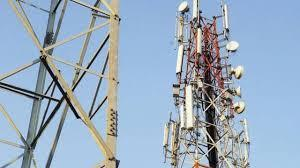Microwave Antenna: (234, 99, 247, 116), (225, 41, 243, 53), (233, 63, 244, 79), (175, 2, 188, 15), (235, 85, 246, 100)
antenna: (184, 85, 195, 130), (173, 45, 185, 73), (195, 25, 204, 55), (242, 118, 252, 145), (162, 121, 170, 153), (223, 0, 231, 30), (191, 0, 200, 20)
